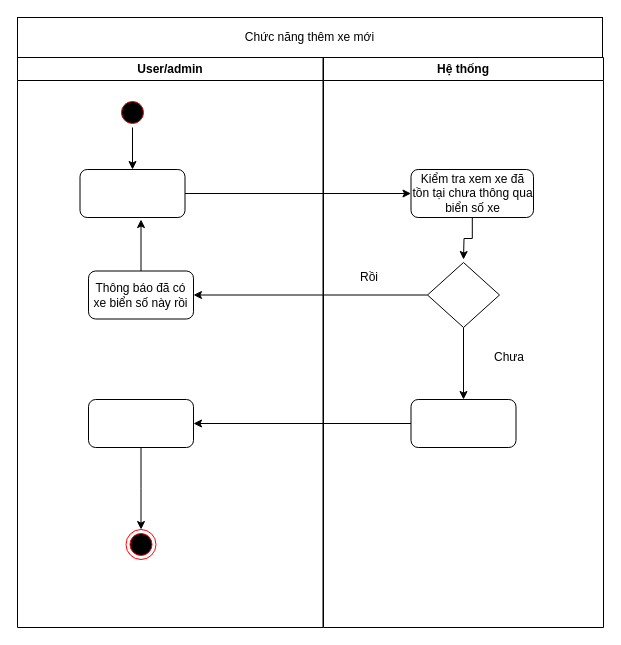
The diagram is 621 pixels wide and 645 high, and some of its shapes have lost their labels. Each missing label, with the centre of its shape:
"Hiển thị thông báo thêm xe thành công" belongs at point (141, 423).
"Hệ thống lưu xe mới vào database" belongs at point (463, 423).
"Nhập thông tin xe mới" belongs at point (132, 193).
